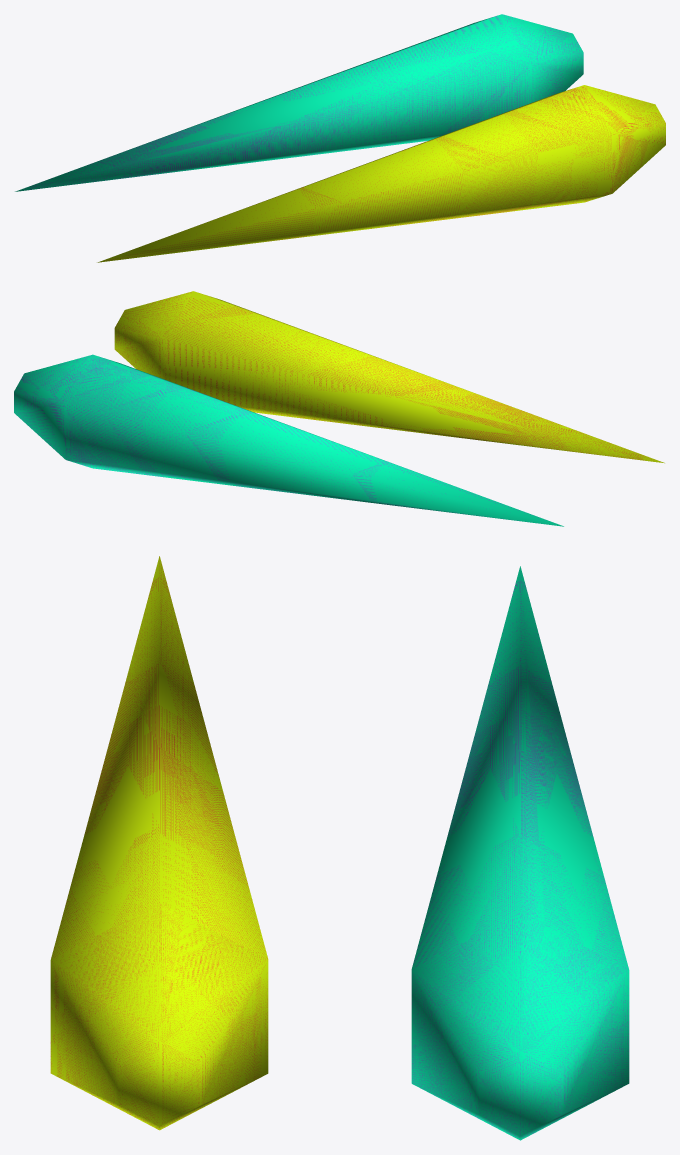
The model's file is skpfile.dae.
The picture shows the model from 3 angles, top to bottom: view 1: azimuth 30°, elevation 25°; view 2: azimuth 150°, elevation 25°; view 3: azimuth 270°, elevation 25°; orthographic projection. The views are drawn at different scales.
Visible parts, largest first — view 1: Component_2, Component_1; view 2: Component_1, Component_2; view 3: Component_1, Component_2.
Part boxes in pixels (bbox=[...]): Component_2: bbox=[97, 85, 665, 262]; Component_1: bbox=[15, 14, 583, 191]; Component_1: bbox=[14, 354, 563, 526]; Component_2: bbox=[114, 291, 664, 463]; Component_1: bbox=[411, 566, 629, 1140]; Component_2: bbox=[50, 556, 268, 1130].
Bounding box in the file's own units: 0.3507 × 0.1592 × 0.0692.
